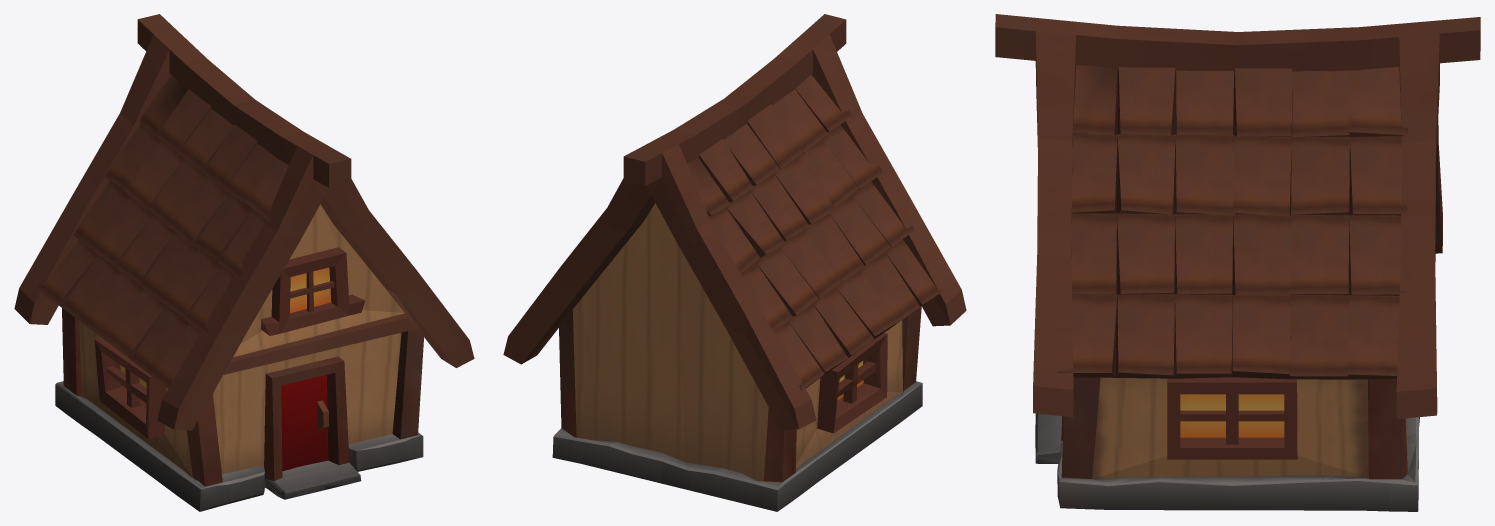
File: House.fbx
3 renders of one model, left to right at view 1: azimuth 30°, elevation 25°; view 2: azimuth 150°, elevation 25°; view 3: azimuth 270°, elevation 25°, orthographic. The views are drawn at different scales.
Parts seen in each view (by area): view 1: House; view 2: House; view 3: House.
Boxes of the visible parts, x1,y1,x2,y2 form: House: (14,14,474,511); House: (503,14,966,511); House: (995,14,1480,511).
Bounding box in the file's own units: 5.16 × 5.59 × 5.8.
